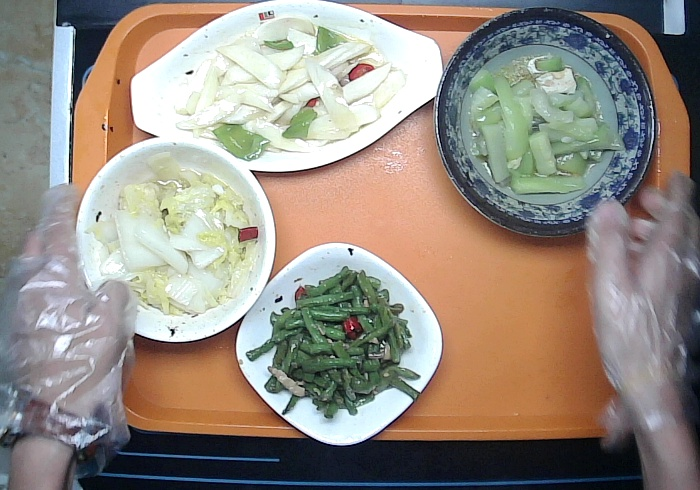ZNLD-Qing_Hua_Wan: (430, 5, 658, 238)
ZNLD-Si_Fang_Wan: (233, 240, 444, 448)
ZNLD-Tang_Wan: (73, 135, 277, 345)
ZNLD-Yu_Pan: (128, 1, 444, 174)
